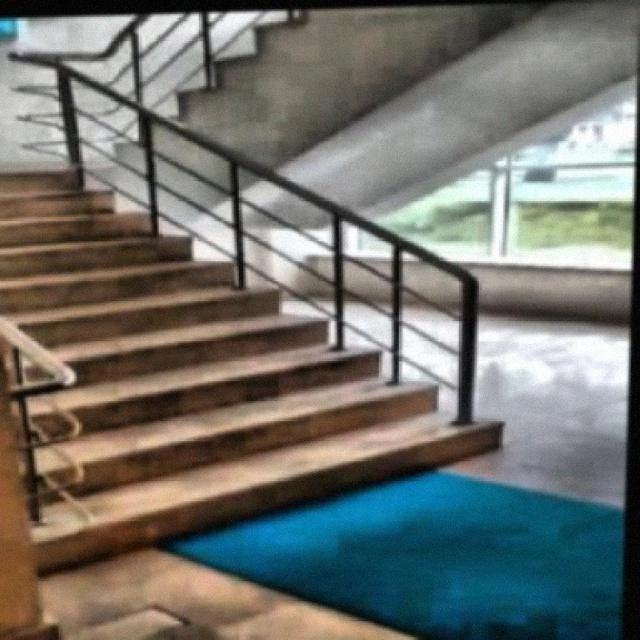stair: (1, 97, 544, 575)
